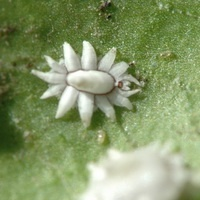insect: (31, 41, 141, 126)
